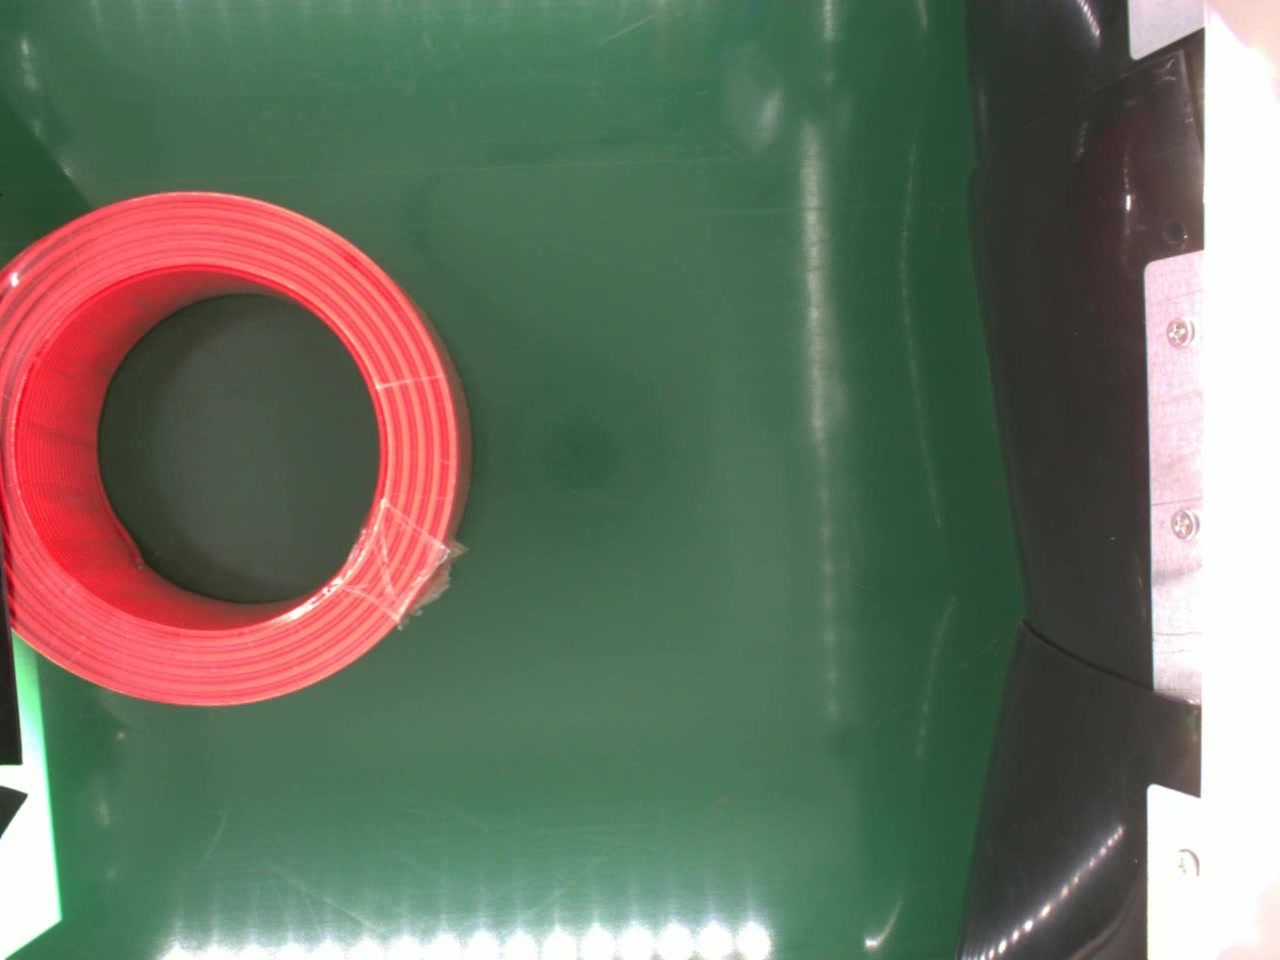red: (0, 186, 472, 709)
